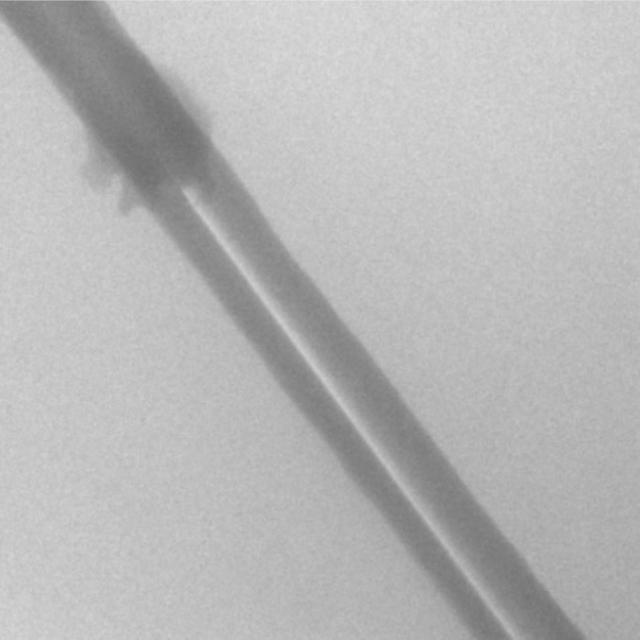broken arc: (178, 184, 518, 637)
